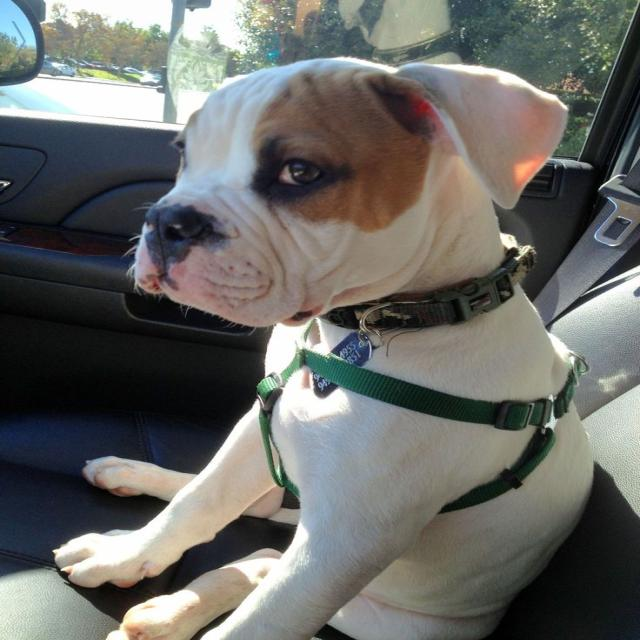dog: (80, 12, 578, 364)
